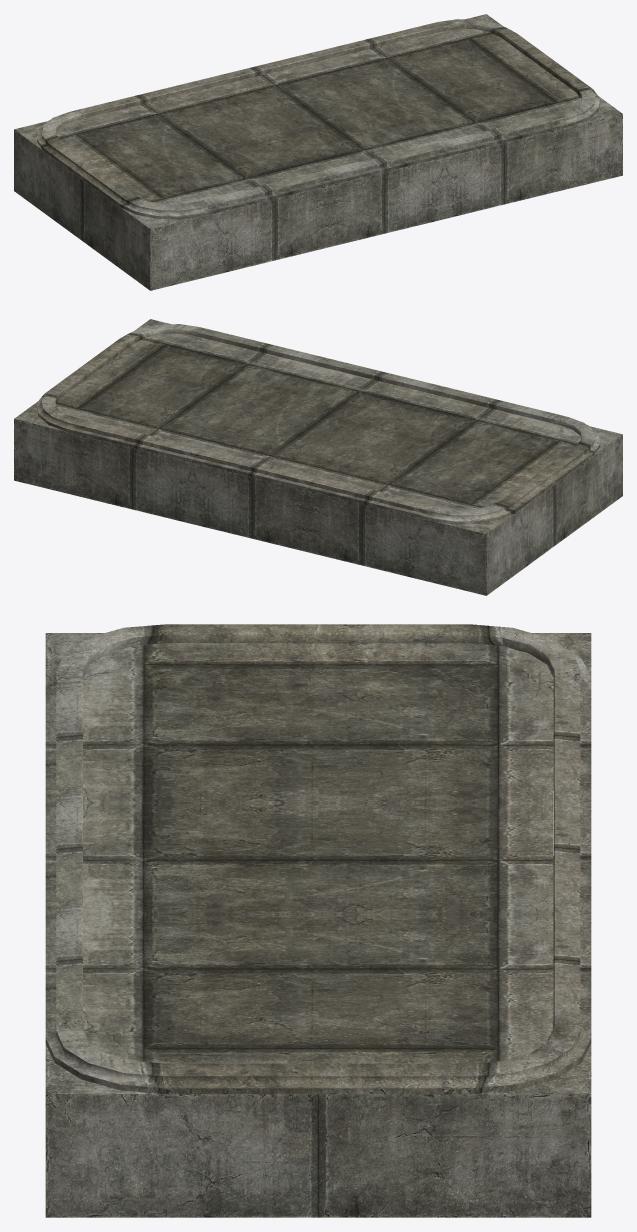
File: tesla_modules1_floor_03.dae
3 renders of one model, top to bottom at view 1: azimuth 30°, elevation 25°; view 2: azimuth 150°, elevation 25°; view 3: azimuth 270°, elevation 25°, orthographic. The views are drawn at different scales.
Parts seen in each view (by area): view 1: Tesla_Floor_01_and_02_polySurface126; view 2: Tesla_Floor_01_and_02_polySurface126; view 3: Tesla_Floor_01_and_02_polySurface126.
Boxes of the visible parts, x1,y1,x2,y2 form: Tesla_Floor_01_and_02_polySurface126: [14, 14, 622, 290]; Tesla_Floor_01_and_02_polySurface126: [14, 319, 622, 595]; Tesla_Floor_01_and_02_polySurface126: [45, 624, 591, 1217].
Size of the model in its own units: 8 by 1.12 by 4.
Materials: 1 (1 with a texture image).
